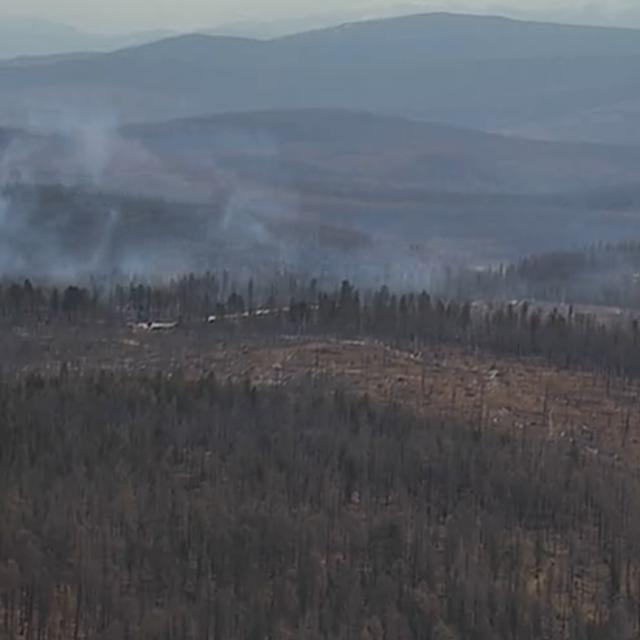Smoke: (0, 105, 440, 302)
